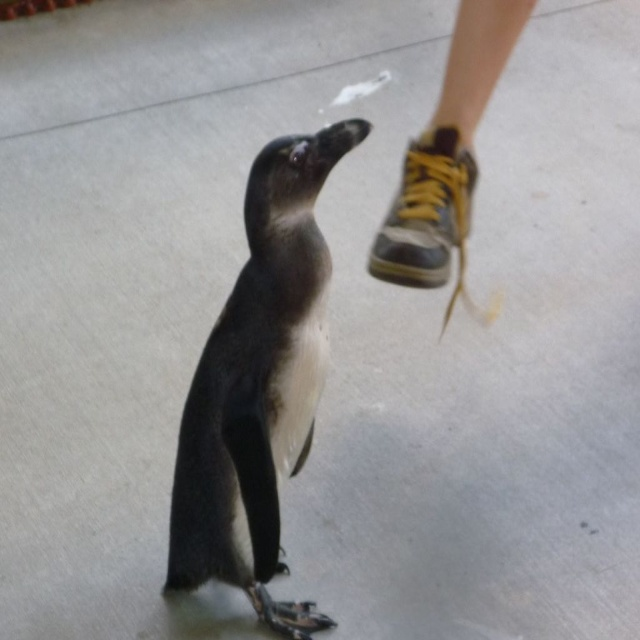Penguin: (164, 117, 372, 639)
